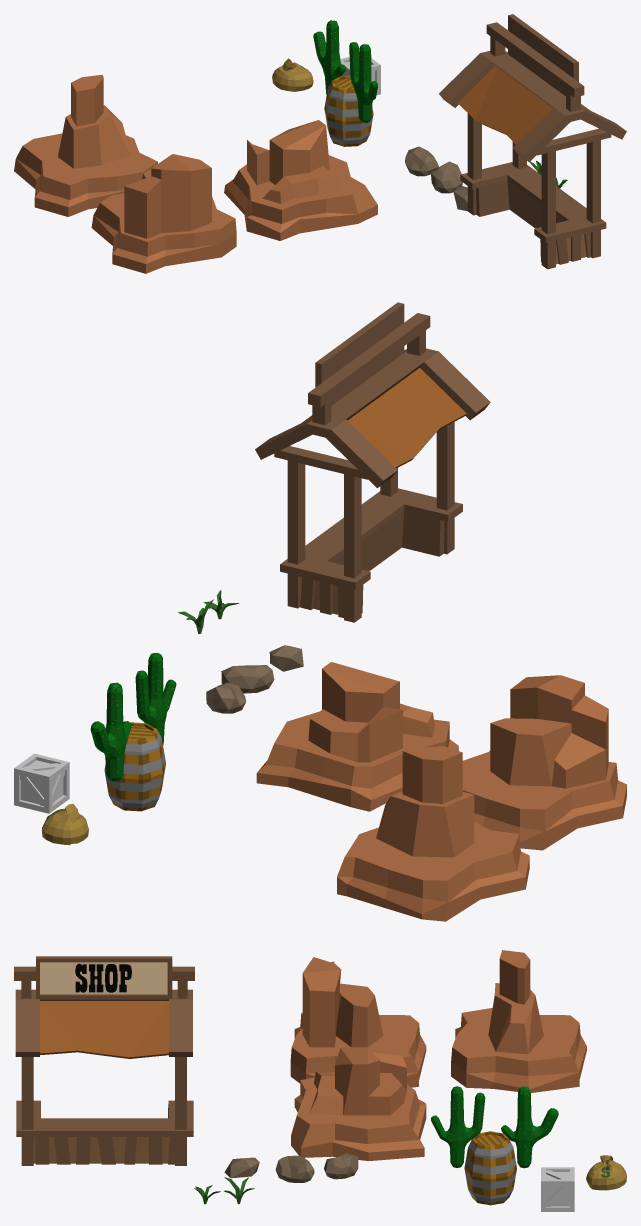
The model's file is miscelanea 1.fbx.
3 renders of one model, top to bottom at view 1: azimuth 30°, elevation 25°; view 2: azimuth 150°, elevation 25°; view 3: azimuth 270°, elevation 25°, orthographic. The views are drawn at different scales.
Visible parts, largest first — view 1: Cube.011, Cube.006, Cube.007, Cube.008, Cylinder, Cube.002, Cube.003, Cube, Icosphere.001, Icosphere.002, Cube.004; view 2: Cube.011, Cube.008, Cube.006, Cube.007, Cylinder, Cube.004, Cube.003, Cube.002, Cube, Icosphere.001, Icosphere.002; view 3: Cube.011, Cube.007, Cube.008, Cube.006, Cylinder, Cube.002, Cube.003, Cube.004, Cube, Icosphere.001, Icosphere.002, Icosphere.
Part boxes in pixels (x1,y1,x2,y2): Cube.011: [439, 14, 626, 269]; Cube.006: [91, 154, 236, 273]; Cube.007: [224, 120, 377, 240]; Cube.008: [14, 74, 157, 216]; Cylinder: [324, 76, 373, 146]; Cube.002: [349, 42, 377, 122]; Cube.003: [313, 20, 345, 94]; Cube: [272, 58, 313, 91]; Icosphere.001: [431, 161, 462, 193]; Icosphere.002: [405, 146, 438, 176]; Cube.004: [340, 57, 380, 95]; Cube.011: [255, 302, 490, 622]; Cube.008: [337, 746, 529, 921]; Cube.006: [462, 675, 626, 850]; Cube.007: [256, 662, 458, 811]; Cylinder: [104, 722, 165, 811]; Cube.004: [14, 753, 69, 813]; Cube.003: [90, 682, 131, 781]; Cube.002: [135, 653, 176, 745]; Cube: [41, 803, 88, 845]; Icosphere.001: [221, 665, 274, 693]; Icosphere.002: [206, 682, 246, 713]; Cube.011: [14, 956, 194, 1165]; Cube.007: [291, 1047, 426, 1160]; Cube.008: [451, 950, 586, 1092]; Cube.006: [290, 957, 426, 1087]; Cylinder: [464, 1131, 516, 1205]; Cube.002: [431, 1086, 485, 1167]; Cube.003: [501, 1086, 558, 1168]; Cube.004: [541, 1167, 574, 1211]; Cube: [586, 1155, 626, 1190]; Icosphere.001: [275, 1155, 314, 1182]; Icosphere.002: [324, 1153, 358, 1179]; Icosphere: [224, 1157, 259, 1178].
Bounding box in the file's own units: 2841 × 1602 × 3649.
